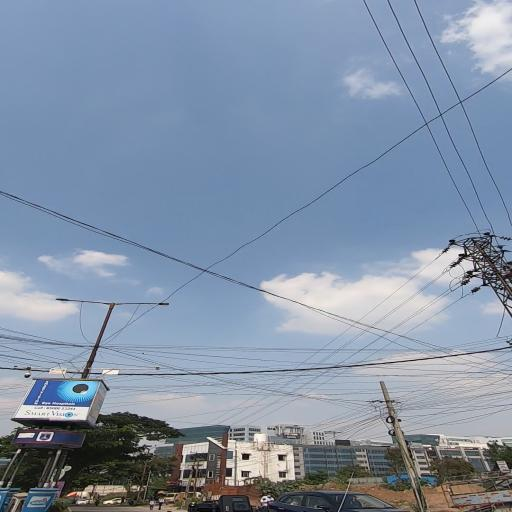Street_light: (51, 296, 106, 309), (120, 299, 172, 309)
